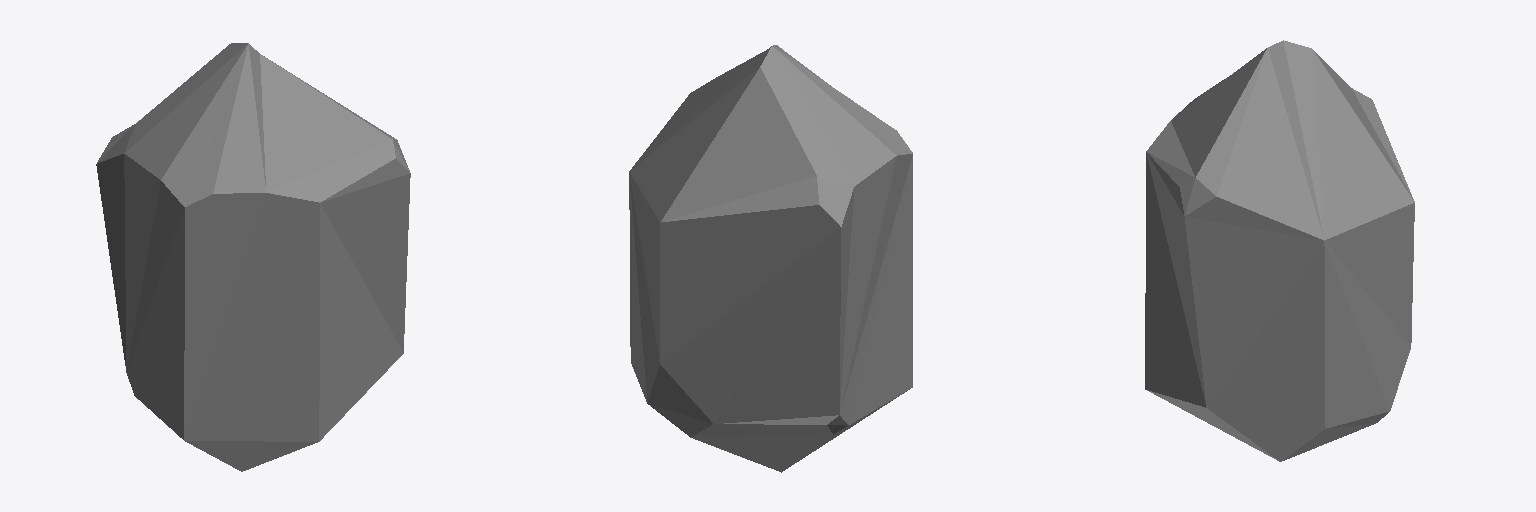
The picture shows the model from 3 angles: view 1: azimuth 30°, elevation 25°; view 2: azimuth 150°, elevation 25°; view 3: azimuth 270°, elevation 25°; orthographic projection.
Parts seen in each view (by area): view 1: cystal_b1; view 2: cystal_b1; view 3: cystal_b1.
Boxes of the visible parts, box(x1,y1,x2,y2) form: cystal_b1: box(96, 43, 410, 471); cystal_b1: box(629, 45, 912, 472); cystal_b1: box(1145, 40, 1414, 461).
Size of the model in its own units: 1.34 by 2.34 by 1.35.